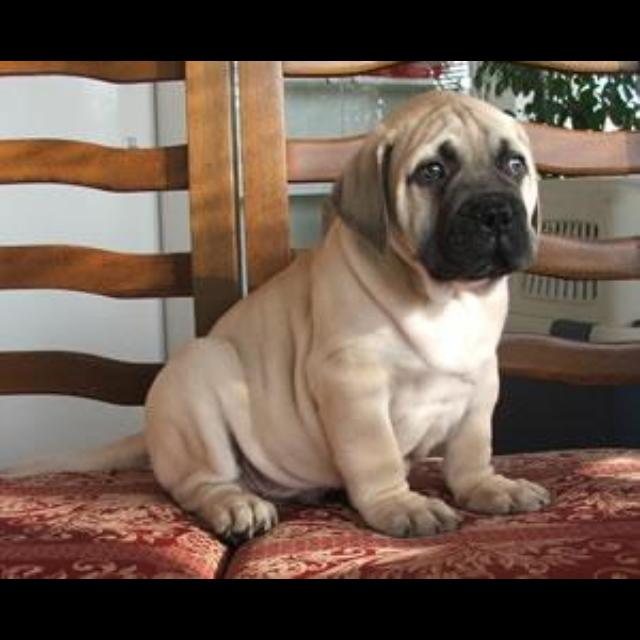bullmastiff: (3, 88, 553, 546)
